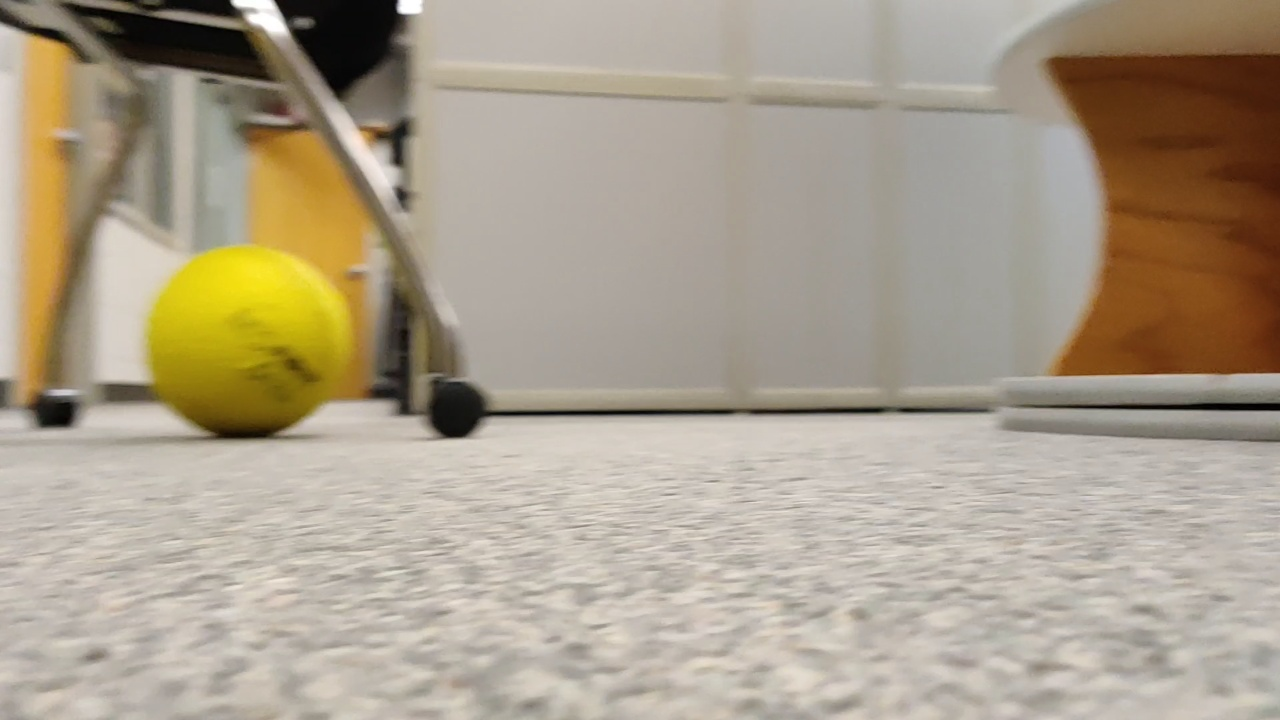Ball: (139, 242, 349, 431)
